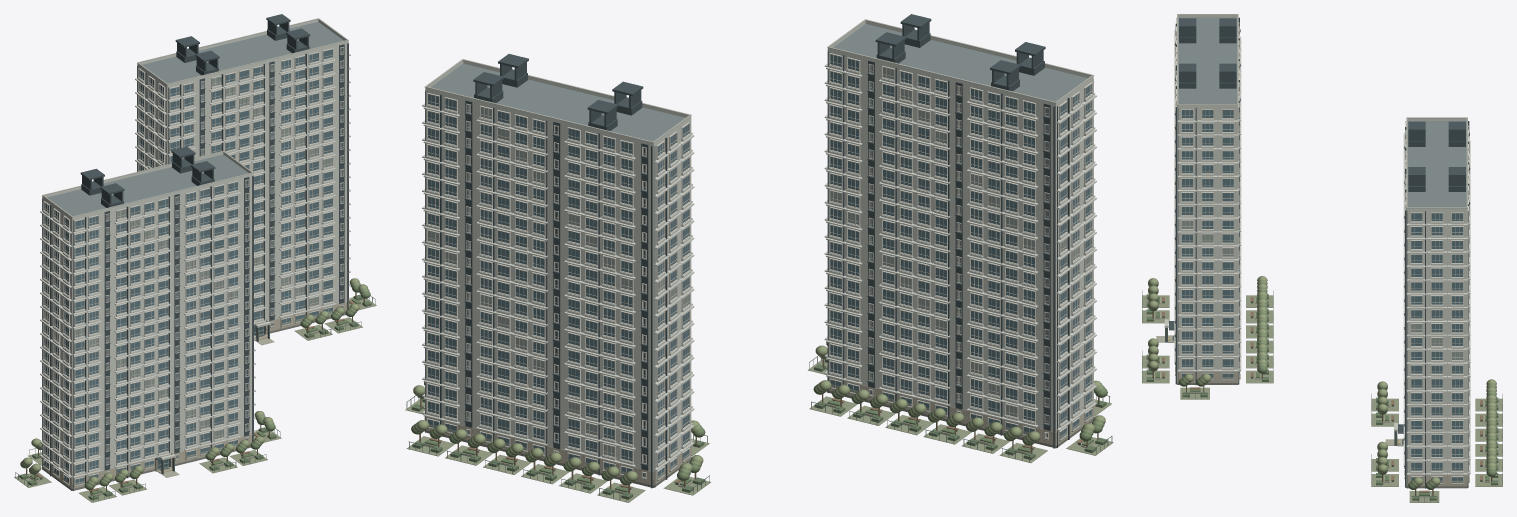
3 renders of one model, left to right at view 1: azimuth 30°, elevation 25°; view 2: azimuth 150°, elevation 25°; view 3: azimuth 270°, elevation 25°, orthographic. The views are drawn at different scales.
Visible parts, largest first — view 1: korean-facade-parts-e0dfd3, korean-facade-surface-d9dcd3, korean-facade-surface-69858d, korean-facade-parts-d9dcd3, korean-facade-parts-505f63, new-1, korean-facade-surface-9eaaa4, korean-facade-parts-9ba48a, korean-facade-parts-b8bcb2, korean-facade-parts-c5c0ae, korean-facade-parts-94a17c, korean-facade-parts-778b69 (+4 smaller); view 2: korean-facade-parts-e0dfd3, korean-facade-surface-69858d, korean-facade-surface-d9dcd3, korean-facade-parts-d9dcd3, korean-facade-parts-505f63, new-1, korean-facade-parts-9ba48a, korean-facade-surface-9eaaa4, korean-facade-parts-94a17c, korean-facade-parts-c5c0ae, korean-facade-parts-718669, korean-facade-parts-b8bcb2 (+5 smaller); view 3: korean-facade-surface-d9dcd3, korean-facade-parts-d9dcd3, korean-facade-surface-69858d, korean-facade-parts-e0dfd3, korean-facade-parts-505f63, new-1, korean-facade-parts-9ba48a, korean-facade-parts-94a17c, korean-facade-parts-889976, korean-facade-parts-b8bcb2, korean-facade-parts-718669, korean-facade-parts-c5c0ae (+5 smaller).
Boxes of the visible parts, left/top/right/bottom form: korean-facade-parts-e0dfd3: left=43, top=47, right=343, bottom=474; korean-facade-surface-d9dcd3: left=42, top=43, right=347, bottom=478; korean-facade-surface-69858d: left=44, top=48, right=343, bottom=482; korean-facade-parts-d9dcd3: left=40, top=19, right=350, bottom=477; korean-facade-parts-505f63: left=42, top=14, right=348, bottom=490; new-1: left=47, top=22, right=343, bottom=216; korean-facade-surface-9eaaa4: left=44, top=76, right=342, bottom=439; korean-facade-parts-9ba48a: left=14, top=297, right=376, bottom=502; korean-facade-parts-b8bcb2: left=42, top=18, right=348, bottom=217; korean-facade-parts-c5c0ae: left=42, top=301, right=348, bottom=488; korean-facade-parts-94a17c: left=23, top=278, right=367, bottom=484; korean-facade-parts-778b69: left=20, top=285, right=370, bottom=490; korean-facade-parts-e0dfd3: left=426, top=53, right=1092, bottom=465; korean-facade-surface-69858d: left=428, top=54, right=1091, bottom=475; korean-facade-surface-d9dcd3: left=425, top=51, right=1093, bottom=471; korean-facade-parts-d9dcd3: left=422, top=20, right=1096, bottom=470; korean-facade-parts-505f63: left=425, top=14, right=1069, bottom=488; new-1: left=431, top=24, right=1087, bottom=445; korean-facade-parts-9ba48a: left=405, top=359, right=1113, bottom=502; korean-facade-surface-9eaaa4: left=428, top=67, right=1091, bottom=456; korean-facade-parts-94a17c: left=413, top=342, right=1105, bottom=481; korean-facade-parts-c5c0ae: left=424, top=377, right=1094, bottom=485; korean-facade-parts-718669: left=411, top=359, right=1107, bottom=499; korean-facade-parts-b8bcb2: left=425, top=19, right=1094, bottom=142; korean-facade-surface-d9dcd3: left=1177, top=107, right=1467, bottom=475; korean-facade-parts-d9dcd3: left=1174, top=15, right=1470, bottom=475; korean-facade-surface-69858d: left=1182, top=110, right=1462, bottom=482; korean-facade-parts-e0dfd3: left=1176, top=19, right=1468, bottom=471; korean-facade-parts-505f63: left=1169, top=17, right=1469, bottom=488; new-1: left=1178, top=17, right=1466, bottom=207; korean-facade-parts-9ba48a: left=1142, top=295, right=1502, bottom=502; korean-facade-parts-94a17c: left=1148, top=276, right=1496, bottom=485; korean-facade-parts-889976: left=1148, top=281, right=1496, bottom=487; korean-facade-parts-b8bcb2: left=1177, top=14, right=1467, bottom=208; korean-facade-parts-718669: left=1146, top=294, right=1498, bottom=500; korean-facade-parts-c5c0ae: left=1177, top=371, right=1467, bottom=486.
Size of the model in its own units: 104 by 63.79 by 70.8.
